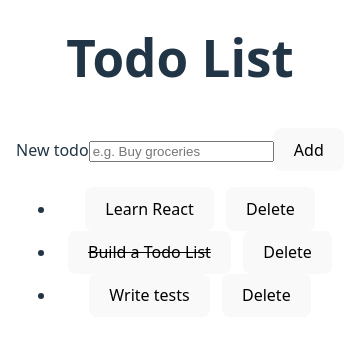
it: TodoList › adds a new todo
The image size is (361, 355).
In the field labelled "New todo": (181, 151) left=89, top=141, right=274, bottom=162, type "Buy milk"
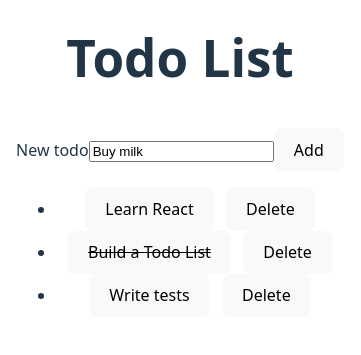
Submit the form named "add todo form", box left=16, top=128, right=344, bottom=172
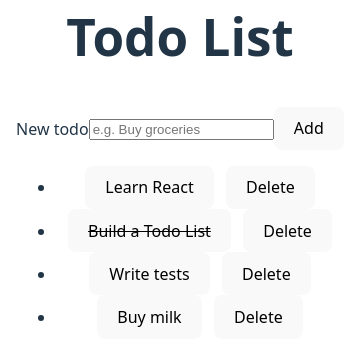
Now the button "Buy milk" is shown, box left=97, top=295, right=202, bottom=339
